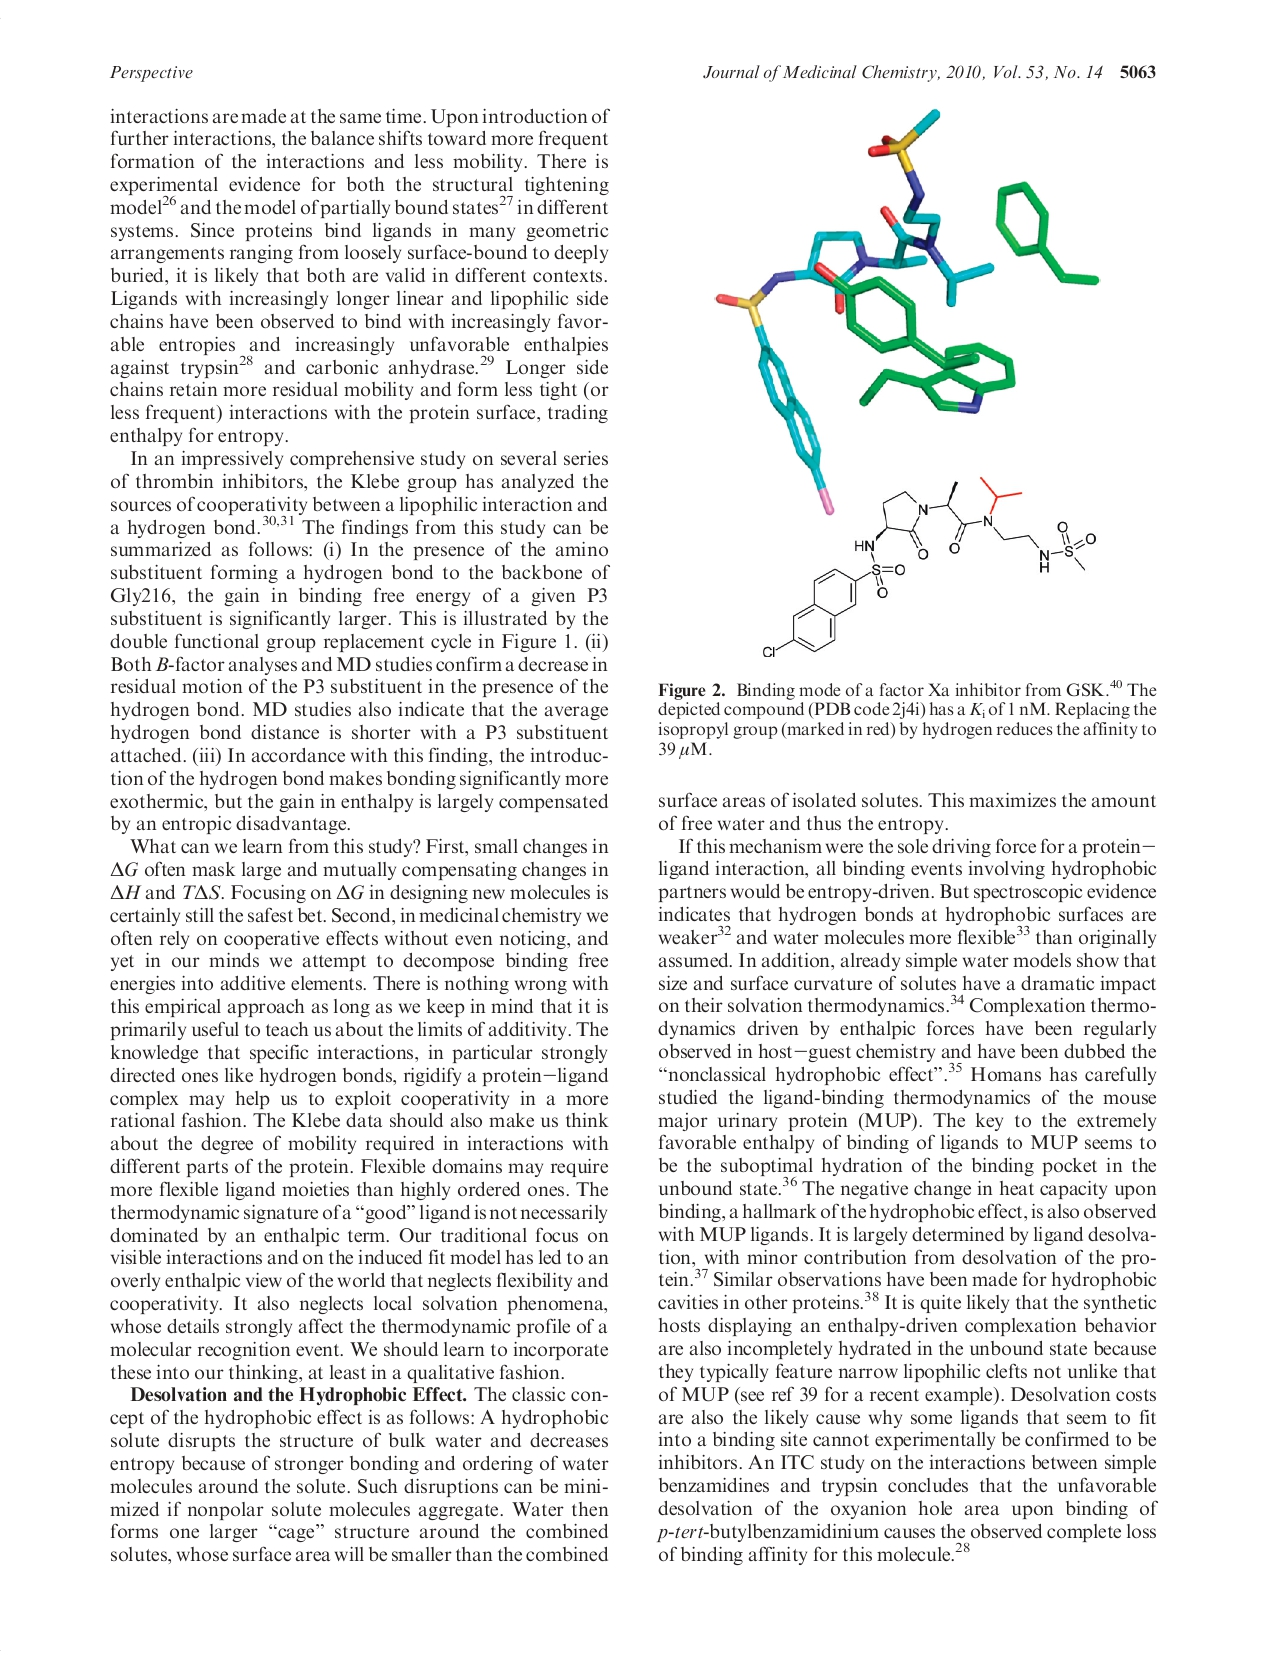exist_molecular: (754, 467, 1108, 662)
